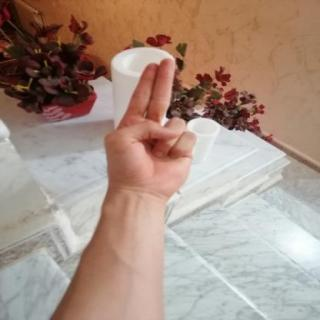TA: (94, 49, 209, 202)
